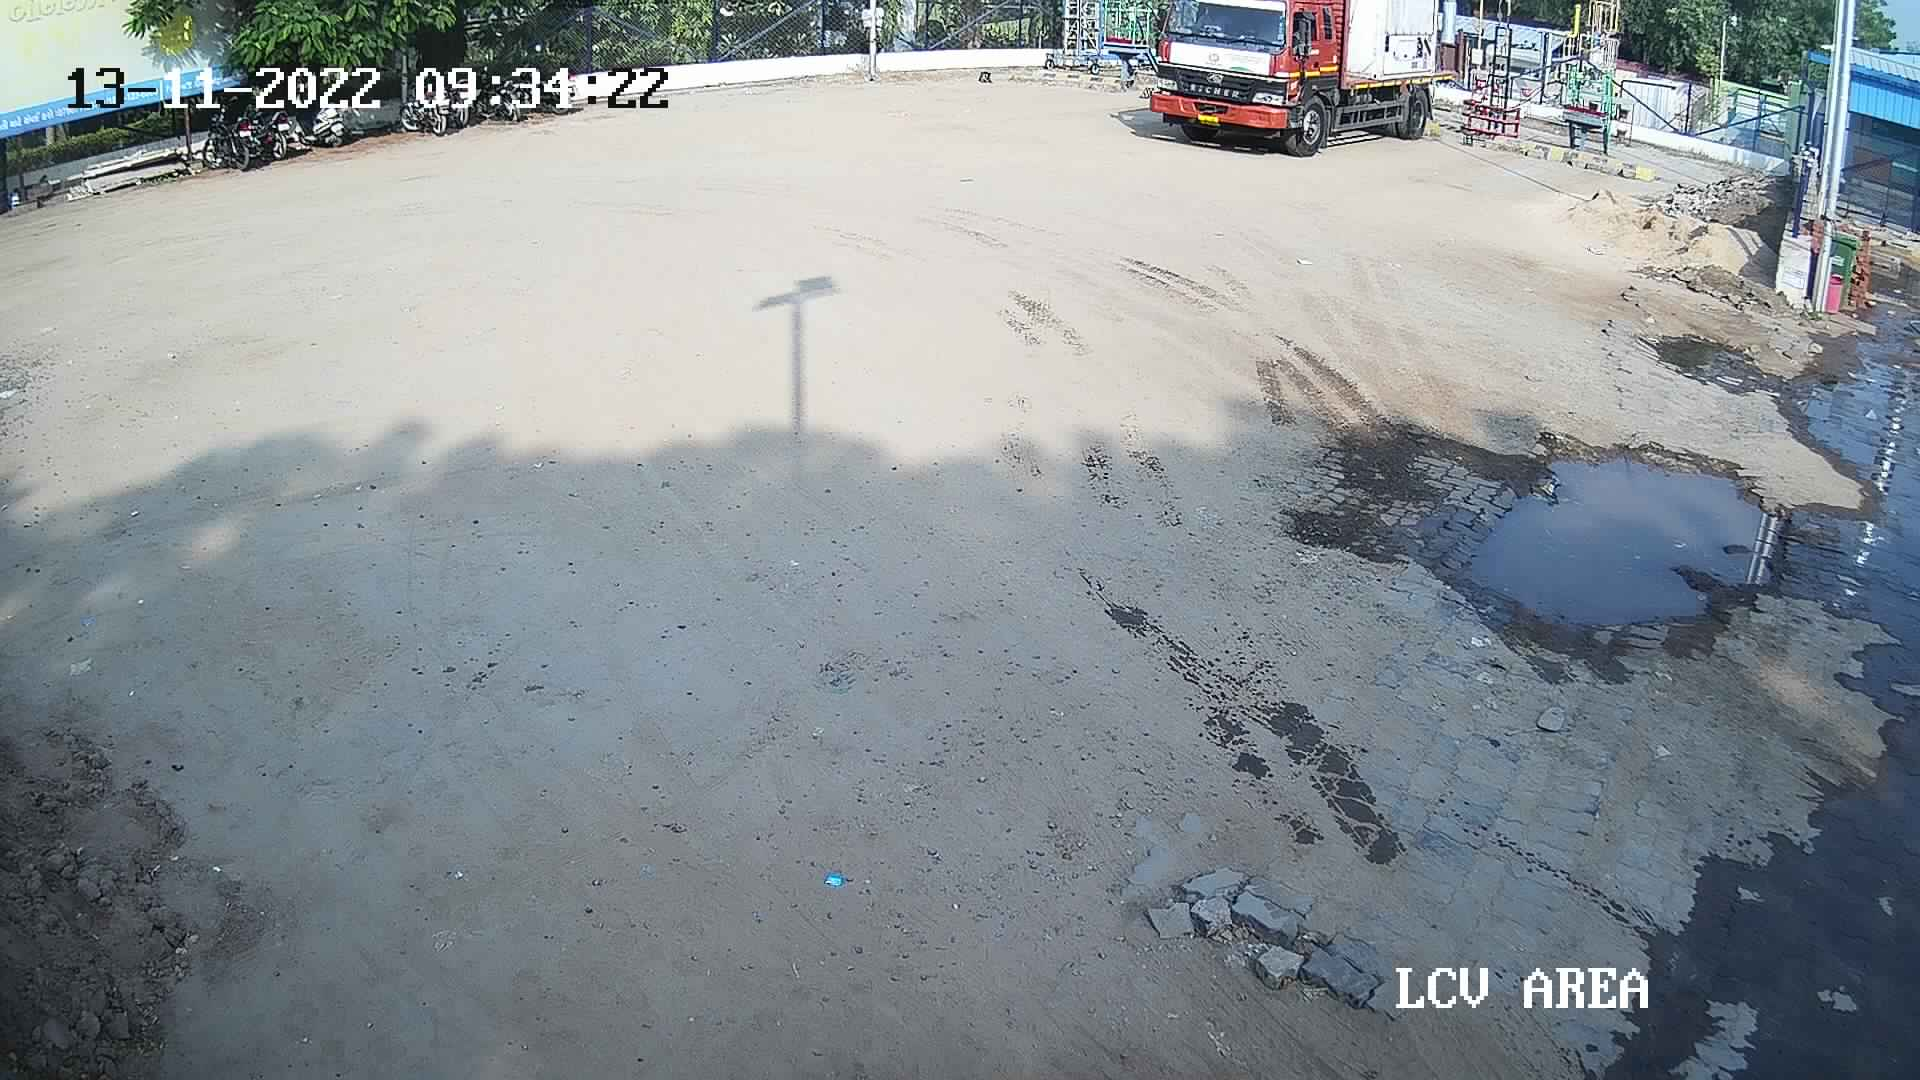HMV: (1127, 0, 1464, 158)
